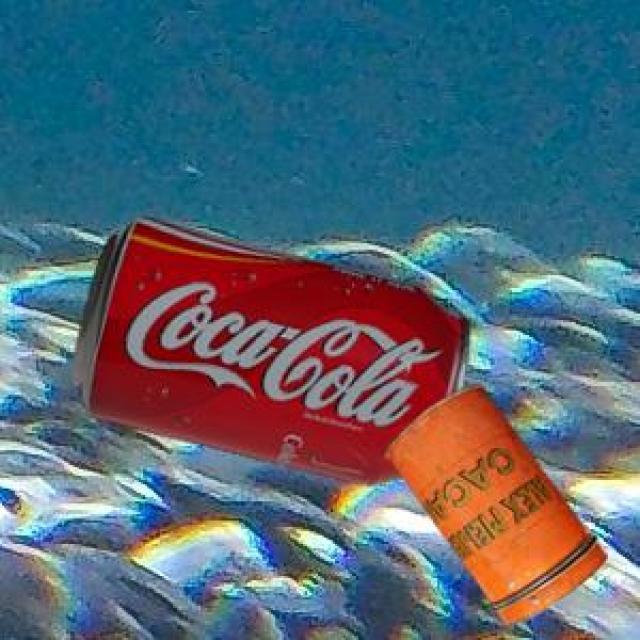Can: (69, 214, 466, 483), (383, 383, 605, 622)
